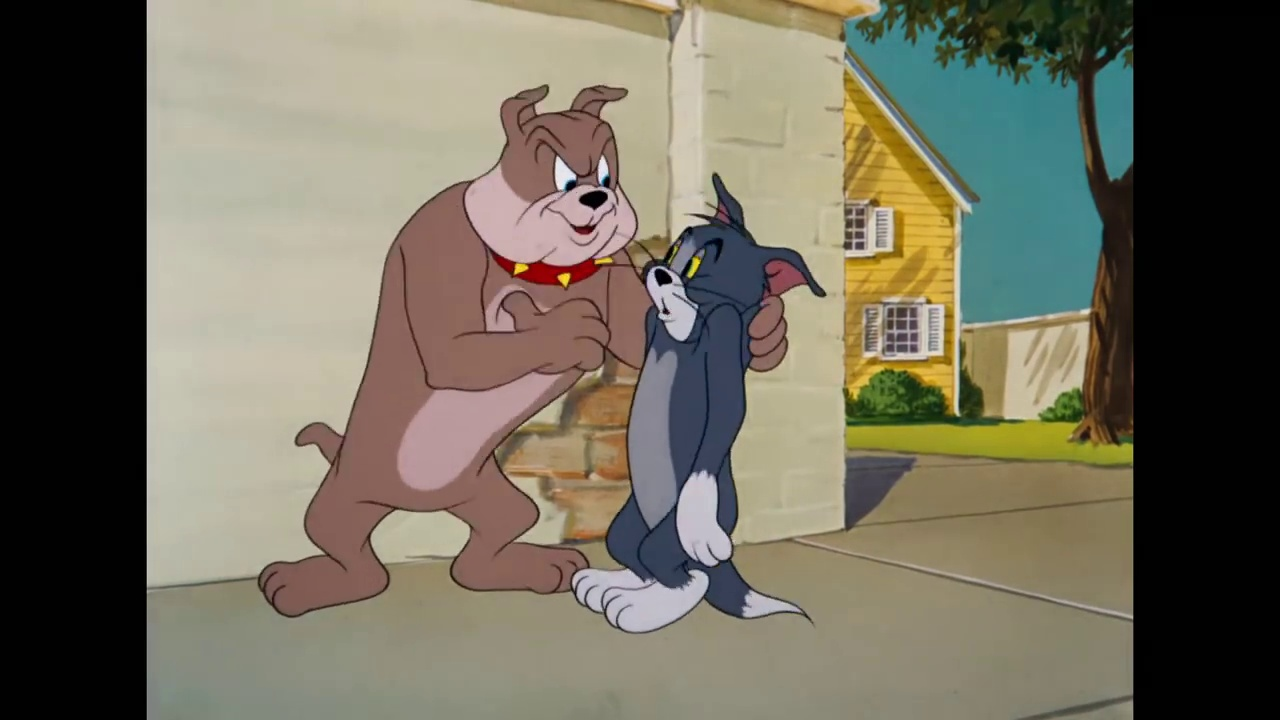spike: (462, 81, 639, 298)
tom: (634, 170, 829, 349)
